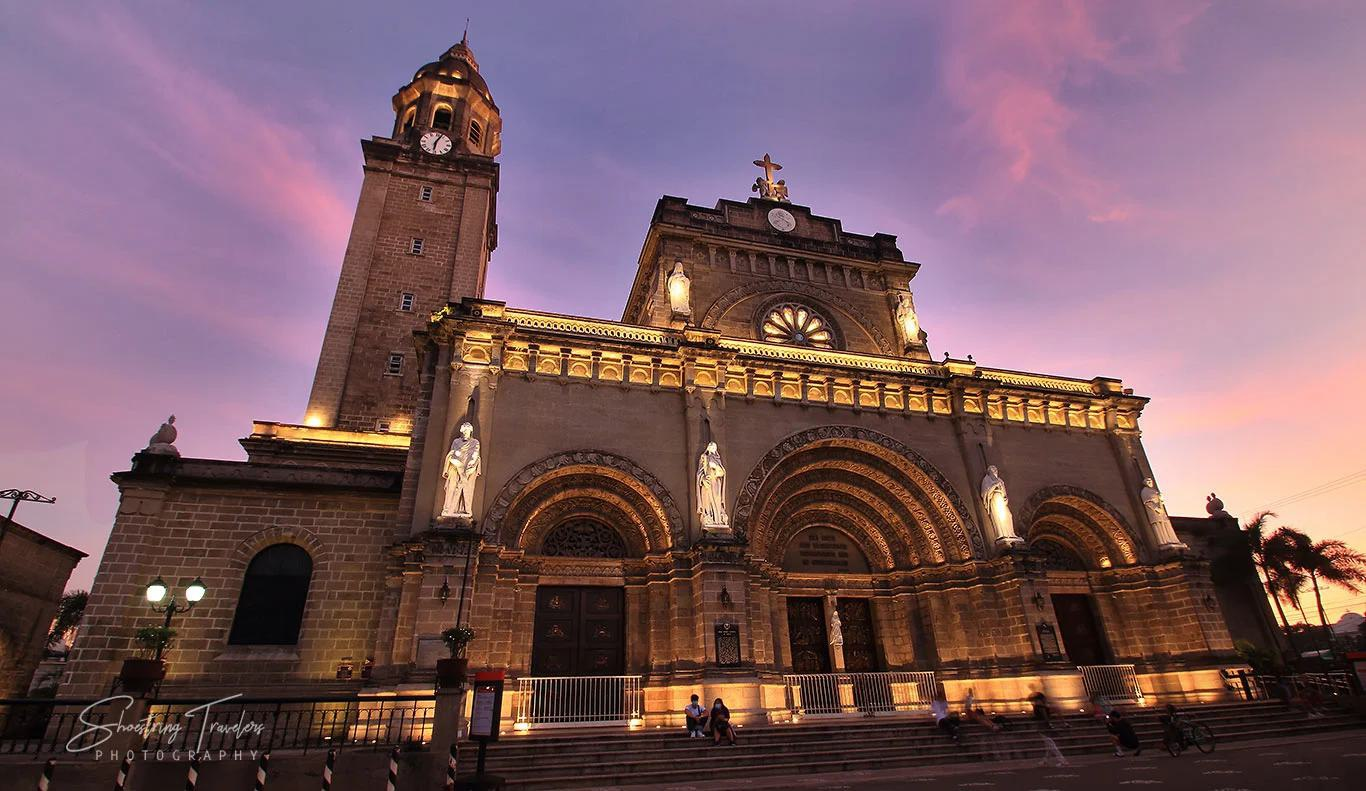manila_cathedral_church_intramuros_manila: (81, 19, 1268, 715)
